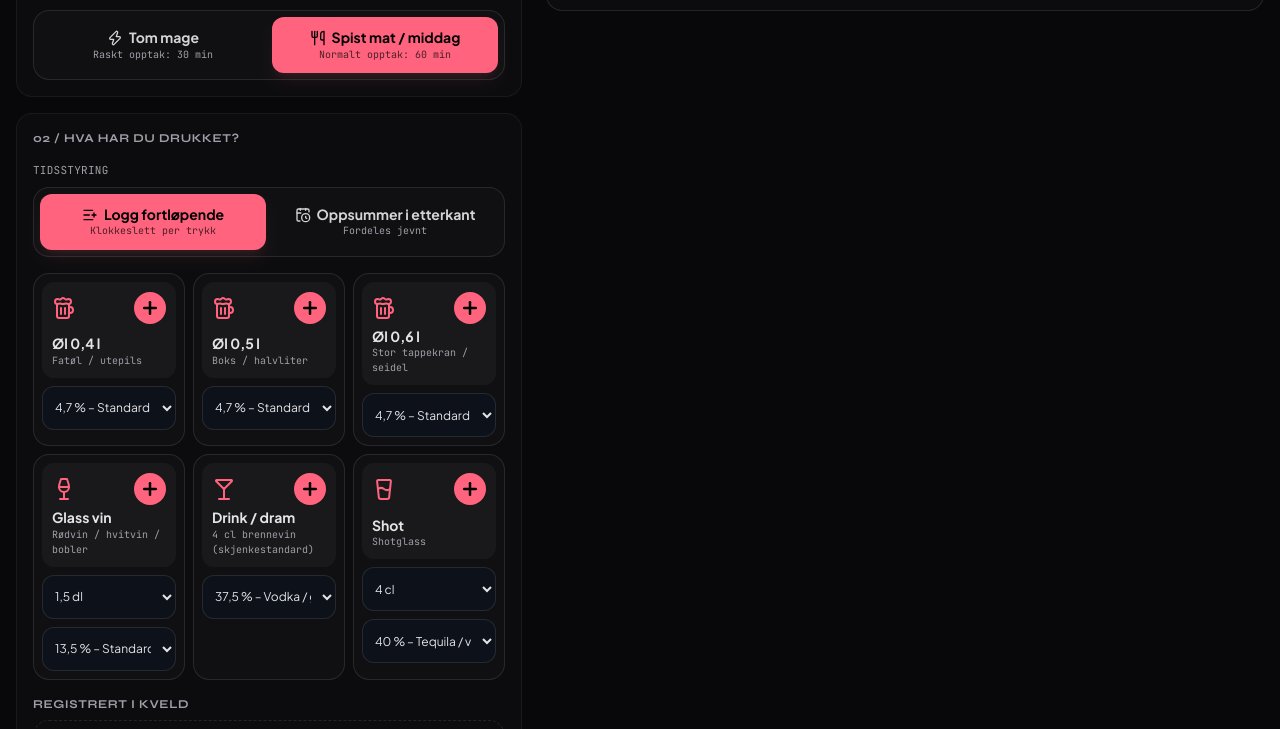
Drikketid og «Ferdig» › slår «Ferdig» av etter to timer, og sier at tiden er antatt
The image size is (1280, 729).
(page scrolled)
What coordinates should you click on to do the following:
click the button "Øl 0,5 l Boks / halvliter"
I would click on:
 (269, 330)
Its box is x1=202 y1=282 x2=336 y2=378.
Wait 7260000 ms
(page scrolled)
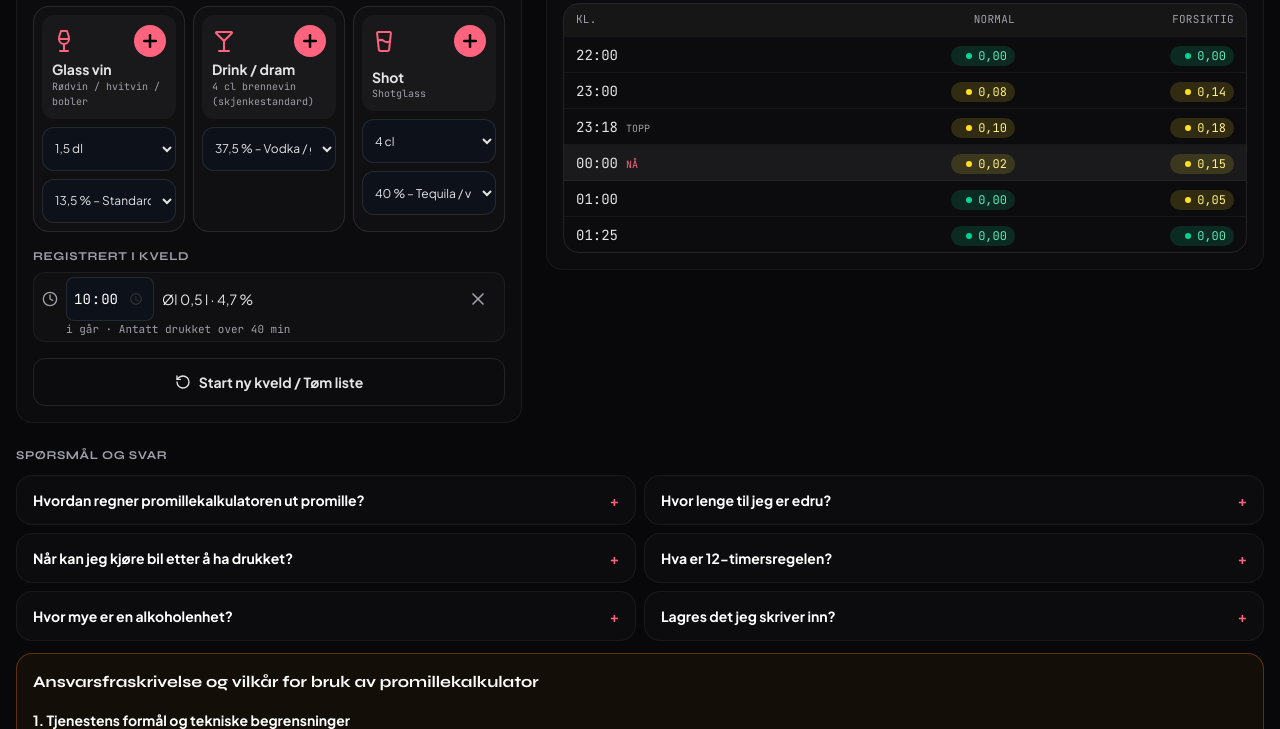
expect the text "i går · Antatt drukket over 40 min" is shown: met, box x1=66 y1=321 x2=290 y2=337
